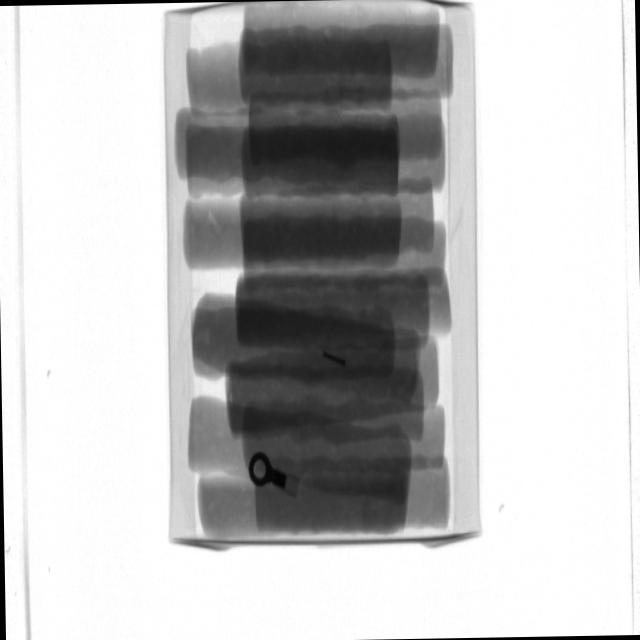ym: (248, 451, 291, 490), (325, 352, 349, 368)
